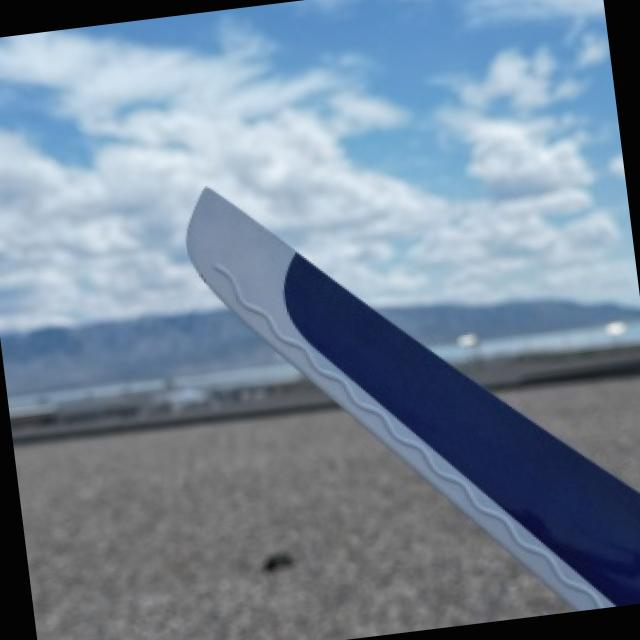healthy: (189, 186, 640, 608)
